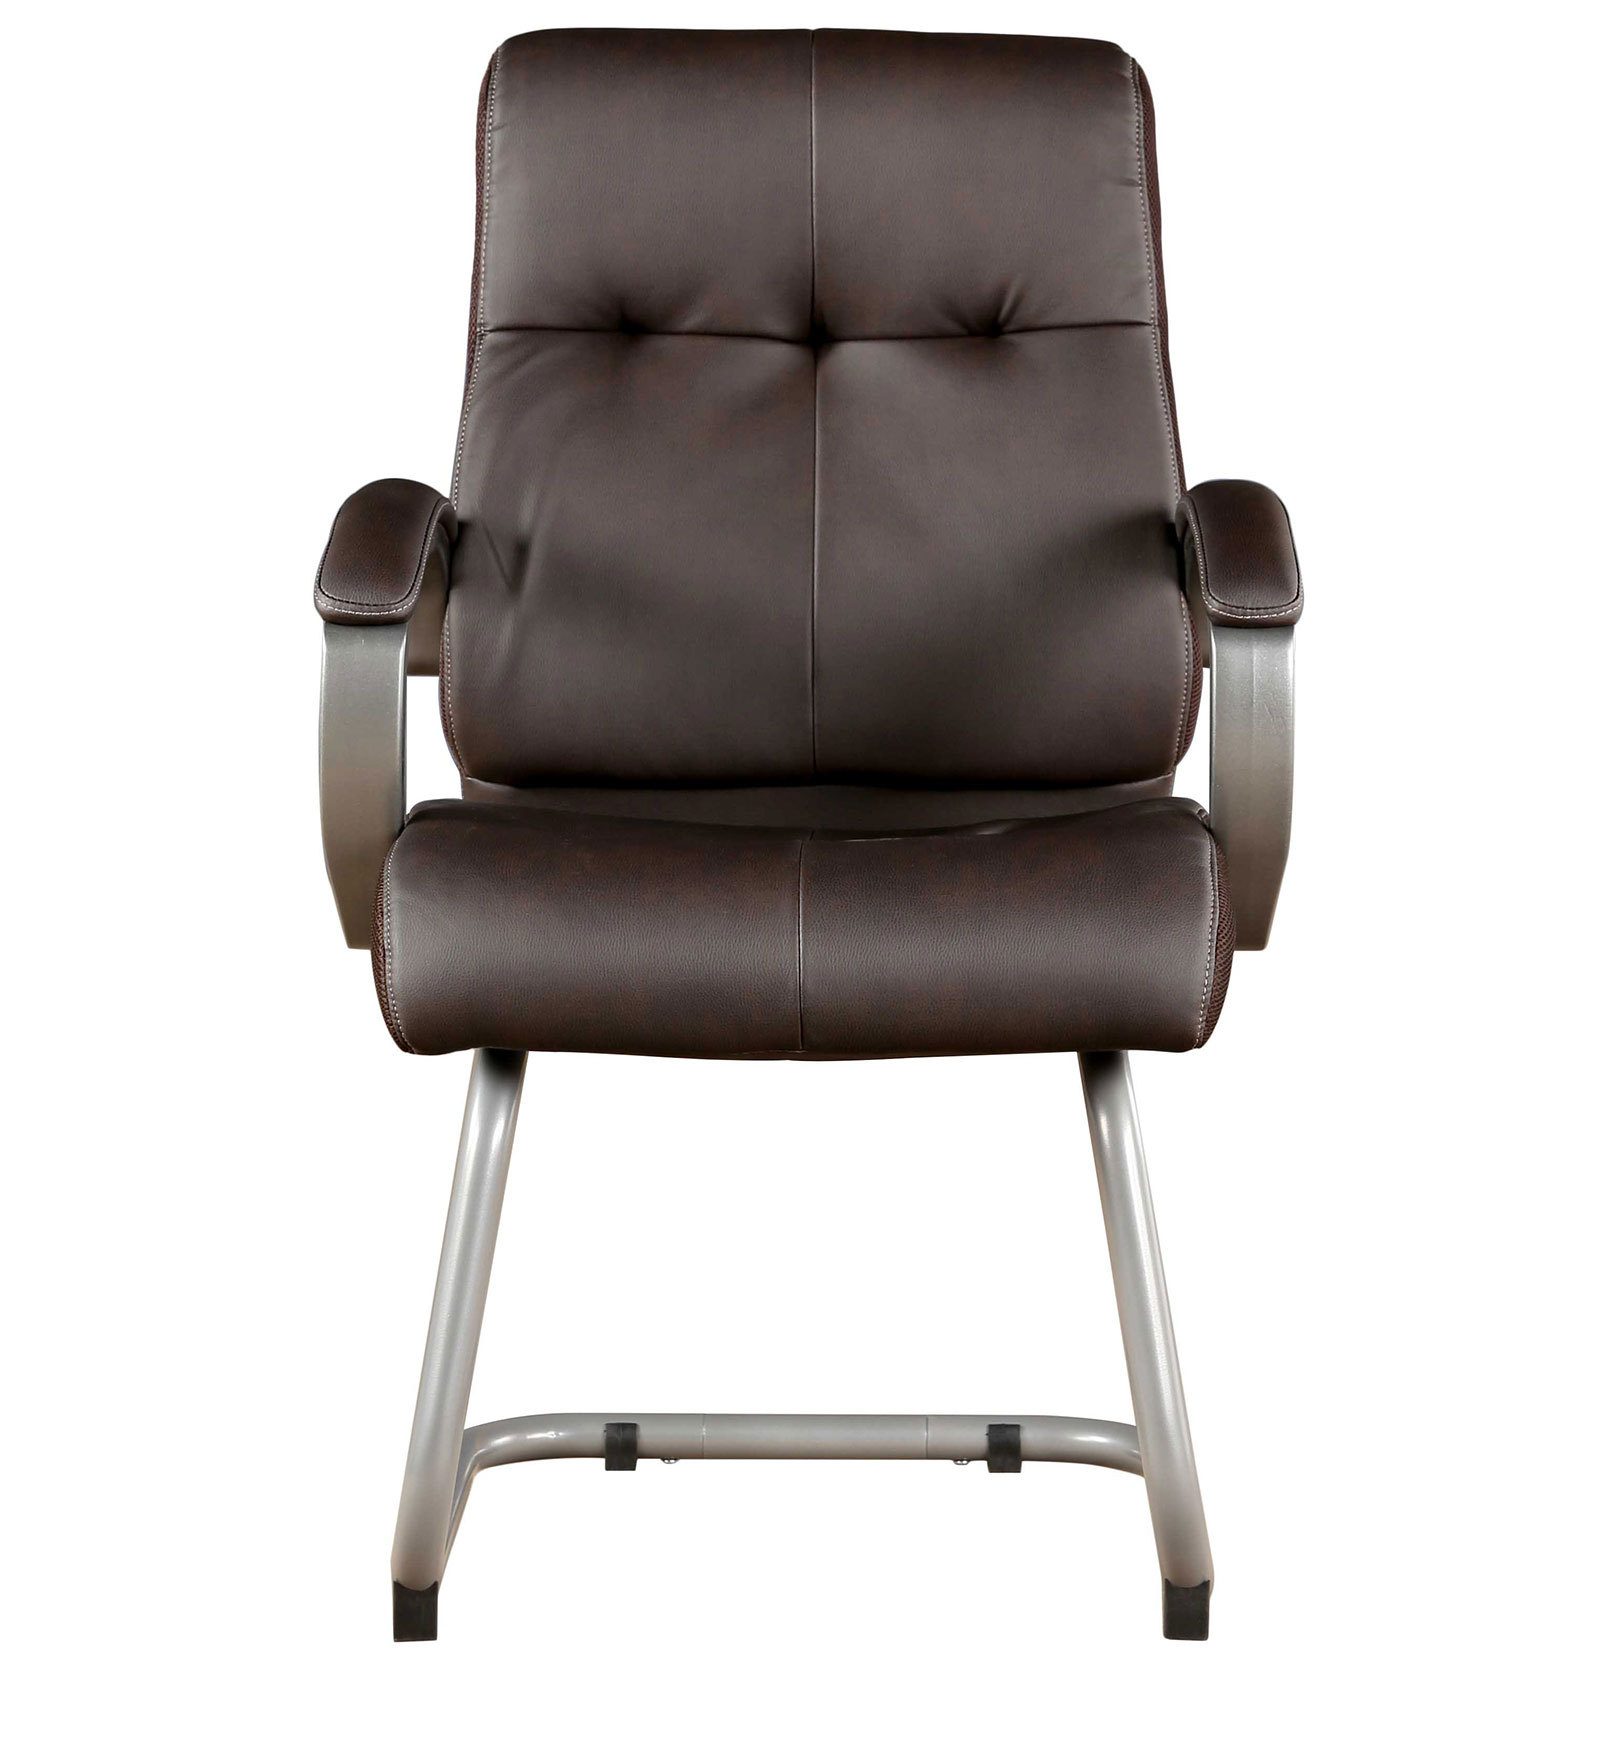Hugo Leatherette Ergonomic Chair by Hometown: (307, 15, 1312, 1726)
